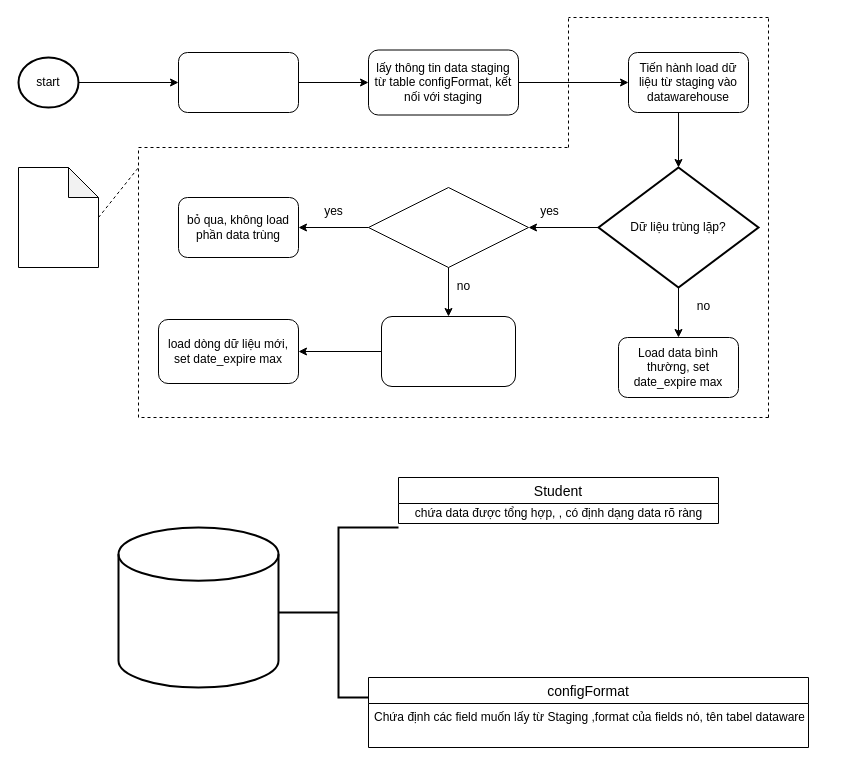
The diagram is 854 pixels wide and 768 high, and some of its shapes have lost their labels. Each missing label, with the centre of its shape:
Data warehouse: (198,607)
kết nối vào data warehouse: (238,82)
lặp lại cho đến khi hết data trong staging: (58,217)
set date+expire cũ bằng thời điểm hiện tại: (448,351)
Trùng lặp hoàn toàn ?: (448,227)
